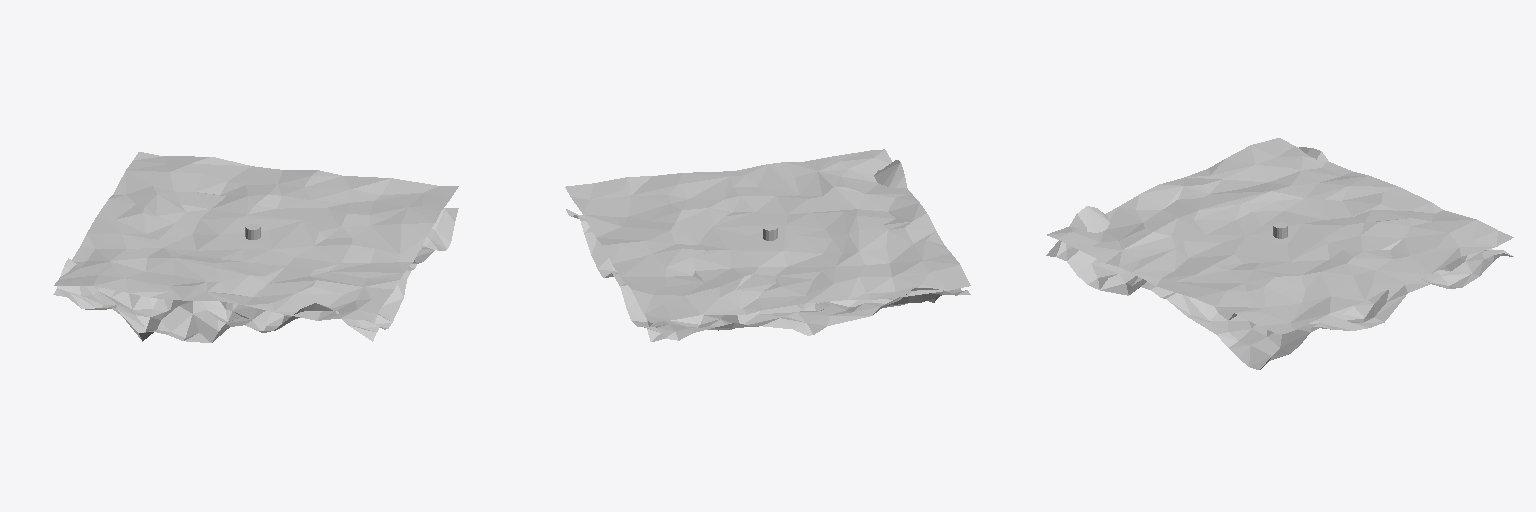
3 renders of one model, left to right at view 1: azimuth 30°, elevation 25°; view 2: azimuth 150°, elevation 25°; view 3: azimuth 270°, elevation 25°, orthographic.
Parts seen in each view (by area): view 1: Circle.001_Circle.003, Circle; view 2: Circle.001_Circle.003, Circle; view 3: Circle.001_Circle.003, Circle.
Part boxes in pixels (left/top/right/bottom): Circle.001_Circle.003: left=54, top=152, right=458, bottom=320; Circle: left=53, top=208, right=458, bottom=342; Circle.001_Circle.003: left=565, top=149, right=970, bottom=322; Circle: left=566, top=160, right=970, bottom=341; Circle.001_Circle.003: left=1047, top=138, right=1513, bottom=334; Circle: left=1046, top=147, right=1513, bottom=369.
Bounding box in the file's own units: 310 × 47.36 × 310.